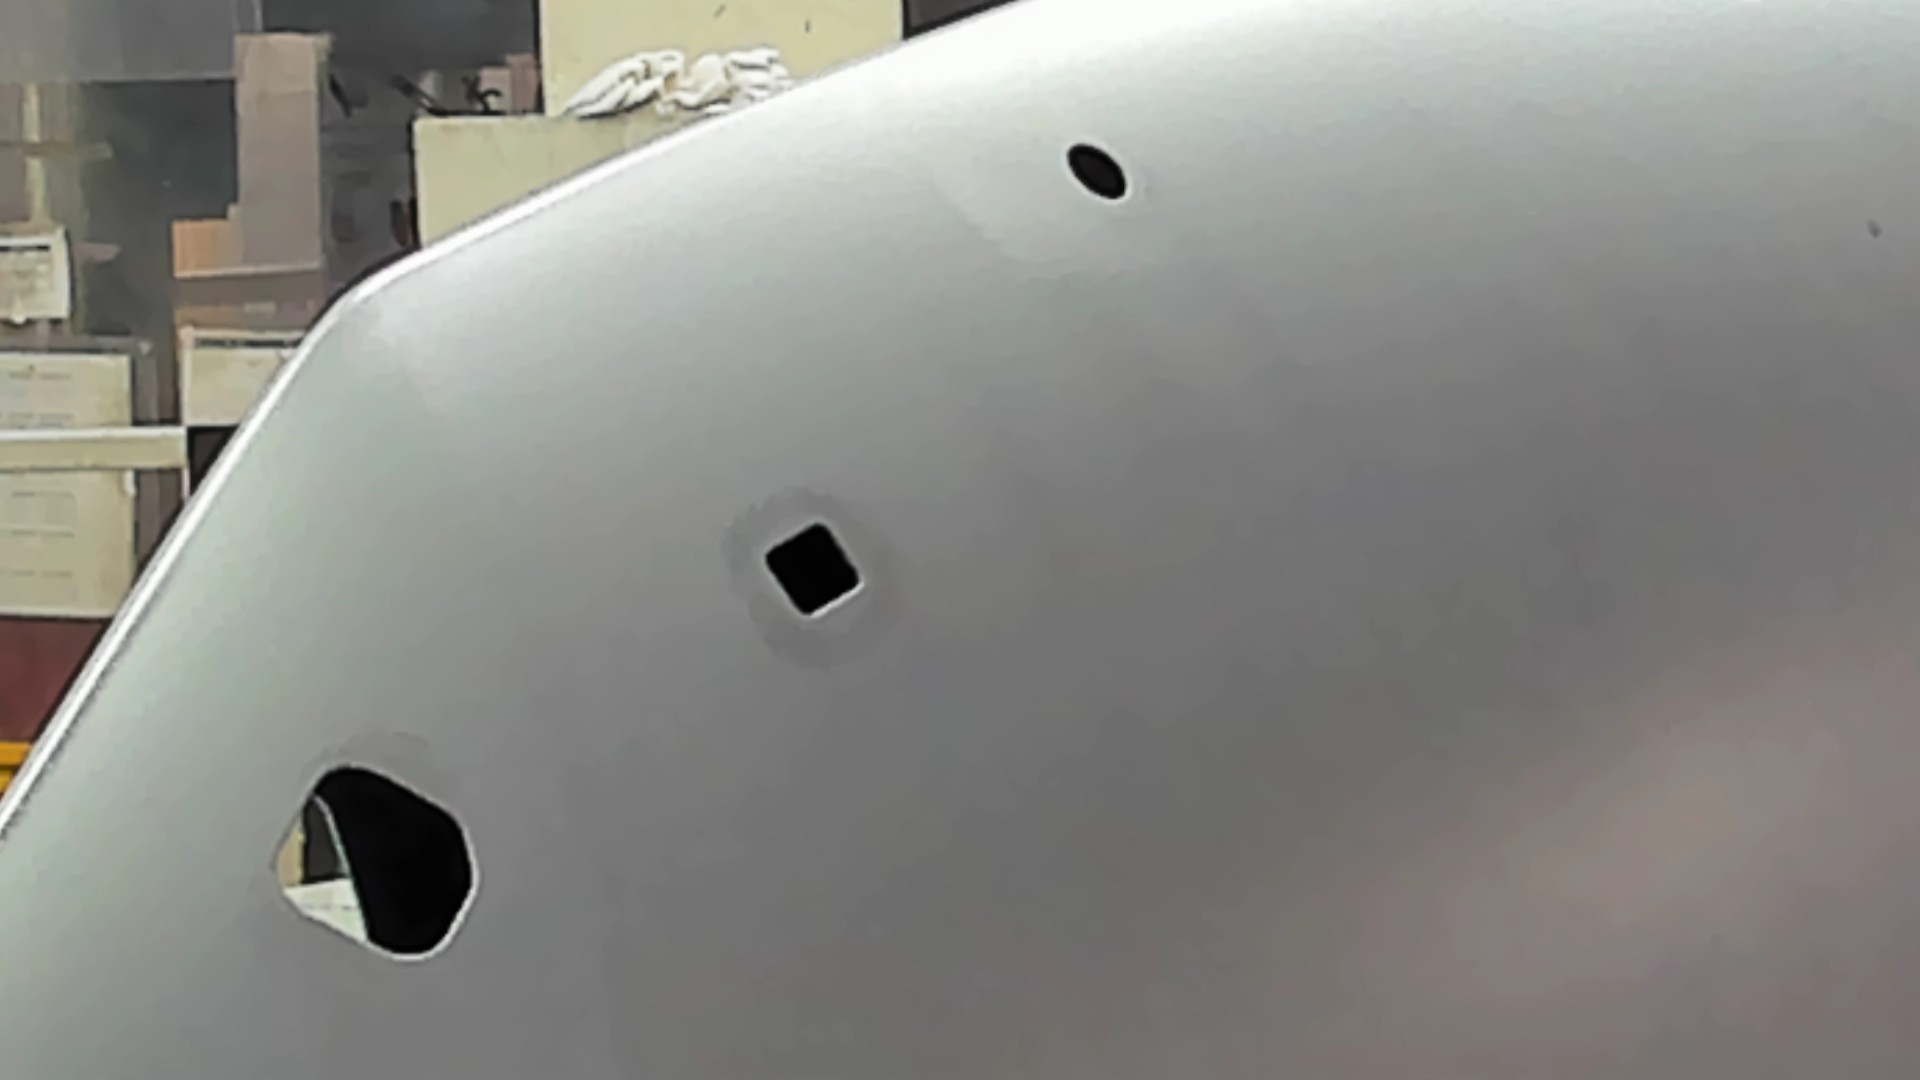capo: (866, 210, 1920, 1080)
chico: (1058, 137, 1134, 208)
grande: (261, 756, 487, 977)
mediano: (760, 516, 866, 626)
